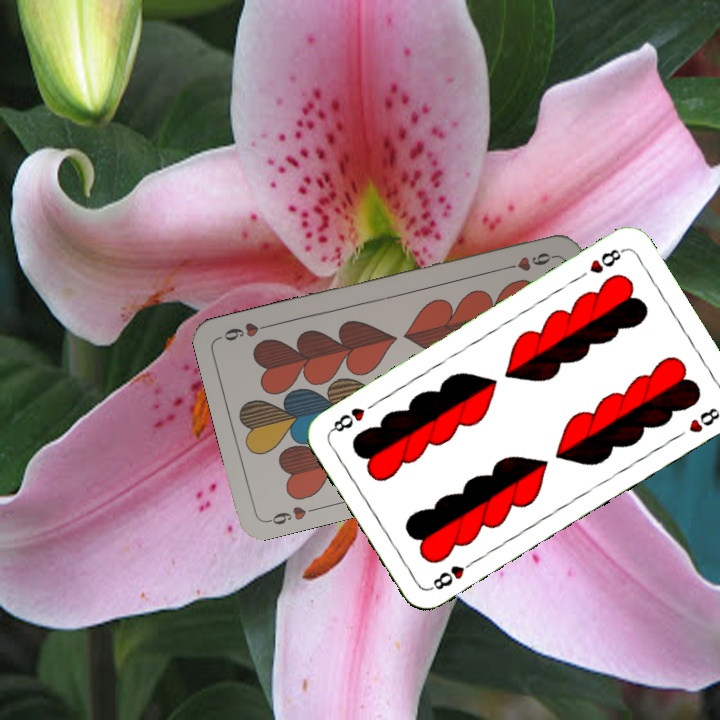H8: (425, 555, 479, 593), (585, 244, 627, 276)
H9: (498, 248, 557, 274), (263, 502, 321, 528)
